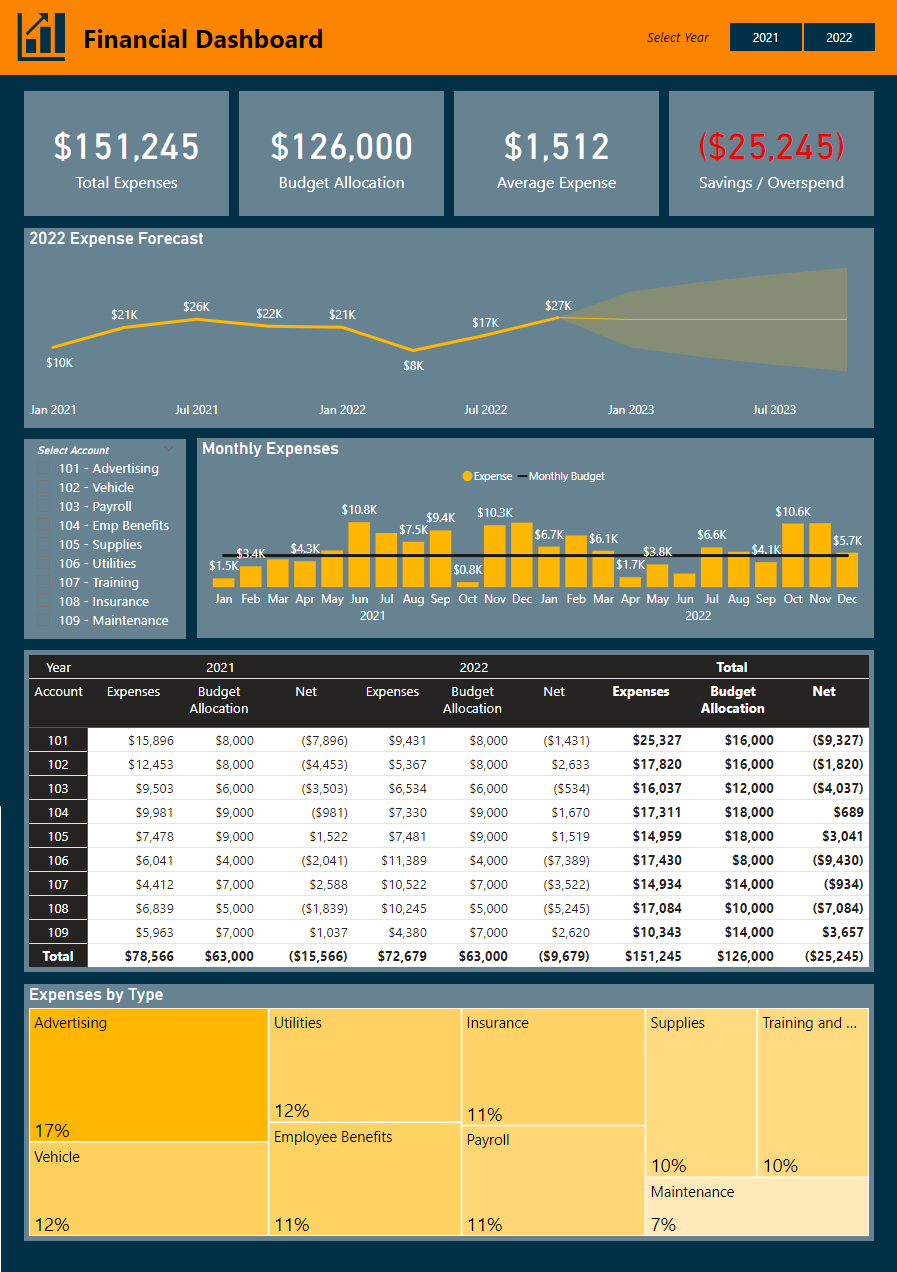

Layout of this report page (visuals, bound fields, positions):
{"tool":"powerbi","page":{"name":"Page 1","canvas":[900,1275],"ordinal":0},"visuals":[{"type":"group","id":"g1","title":"Group 1","box":[0,0,900,76],"z":0},{"type":"lineChart","title":"2022 Expense Forecast","fields":{"Y":["Sum(Expenses.Expense)"],"Category":["Transactions.Date.Variation.Date Hierarchy.Year","Transactions.Date.Variation.Date Hierarchy.Quarter"]},"box":[25,229,850,200],"z":1000},{"type":"pivotTable","fields":{"Values":["Sum(Expenses.Expense)","Key Measures.Total Budget","Key Measures.Savings/Overspend"],"Rows":["Accounts - Budget.Account"],"Columns":["Transactions.Date.Variation.Date Hierarchy.Year"]},"box":[25,651,850,322],"z":2000},{"type":"lineClusteredColumnComboChart","title":"Monthly Expenses","fields":{"Category":["Transactions.Date.Variation.Date Hierarchy.Year","Transactions.Month Name"],"Y":["Sum(Transactions.Expense)"],"Y2":["Key Measures.Monthly Budget"]},"box":[198,439,677,200],"z":3000},{"type":"card","fields":{"Values":["Key Measures.Average Expense"]},"box":[455,92,205,125],"z":4000},{"type":"card","fields":{"Values":["Key Measures.Expense v Budget"]},"box":[670,92,205,125],"z":5000},{"type":"card","fields":{"Values":["Key Measures.Total Budget"]},"box":[240,92,205,125],"z":6000},{"type":"shape","box":[0,0,900,76],"z":6500,"group":"g1"},{"type":"card","fields":{"Values":["Key Measures.Total Expenses"]},"box":[25,92,205,125],"z":7000},{"type":"slicer","fields":{"Values":["Transactions.Date.Variation.Date Hierarchy.Year"]},"box":[705,17,195,42],"z":8000,"group":"g2"},{"type":"slicer","fields":{"Values":["Yearly Budget.Account Type"]},"box":[25,440,162,200],"z":8000},{"type":"shape","title":"asgsadfa","box":[84,0,292,76],"z":9000,"group":"g1"},{"type":"shape","title":"asgsadfa","box":[648,27,69,21],"z":9000,"group":"g2"},{"type":"treemap","title":"Expenses by Type","fields":{"Values":["Sum(Expenses.Expense)"],"Group":["Yearly Budget.Expense Type"]},"box":[25,985,850,257],"z":9000},{"type":"image","box":[0,0,84,76],"z":10000,"group":"g1"},{"type":"group","id":"g2","title":"Group 2","box":[648,17,252,42],"z":10000}]}

Visuals, with their boxes in screenshot pixels (x1, y1, x2, y2), scaled from the page's 900x1275 canvas onto the 897x1272 screenshot:
"Group 1" group: pyautogui.locateOnScreen(0, 0, 896, 76)
"2022 Expense Forecast" lineChart: pyautogui.locateOnScreen(25, 228, 872, 428)
pivotTable - Sum(Expenses.Expense) x Key Measures.Total Budget: pyautogui.locateOnScreen(25, 649, 872, 971)
"Monthly Expenses" lineClusteredColumnComboChart: pyautogui.locateOnScreen(197, 438, 872, 637)
card - Key Measures.Average Expense: pyautogui.locateOnScreen(453, 92, 658, 216)
card - Key Measures.Expense v Budget: pyautogui.locateOnScreen(668, 92, 872, 216)
card - Key Measures.Total Budget: pyautogui.locateOnScreen(239, 92, 444, 216)
shape: pyautogui.locateOnScreen(0, 0, 896, 76)
card - Key Measures.Total Expenses: pyautogui.locateOnScreen(25, 92, 229, 216)
slicer - Transactions.Date.Variation.Date Hierarchy.Year: pyautogui.locateOnScreen(703, 17, 896, 59)
slicer - Yearly Budget.Account Type: pyautogui.locateOnScreen(25, 439, 186, 638)
"asgsadfa" shape: pyautogui.locateOnScreen(84, 0, 375, 76)
"asgsadfa" shape: pyautogui.locateOnScreen(646, 27, 715, 48)
"Expenses by Type" treemap: pyautogui.locateOnScreen(25, 983, 872, 1239)
image: pyautogui.locateOnScreen(0, 0, 84, 76)
"Group 2" group: pyautogui.locateOnScreen(646, 17, 896, 59)
